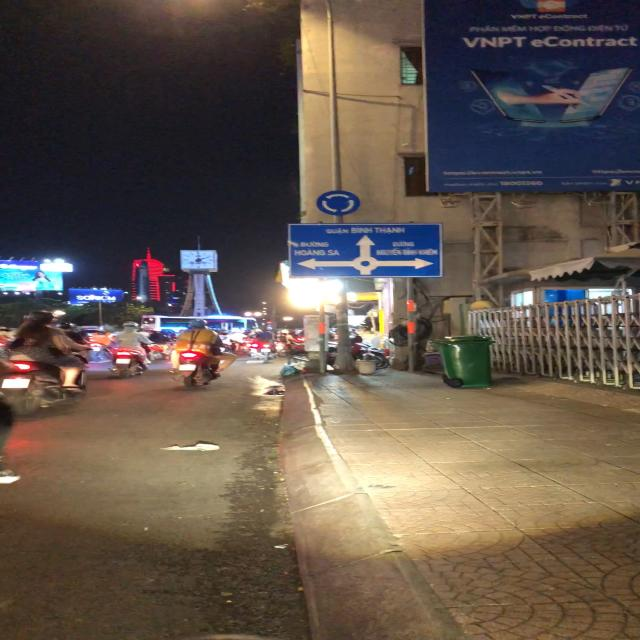Bien bao noi giao nhau chay theo vong xuyen: (315, 188, 361, 218)
